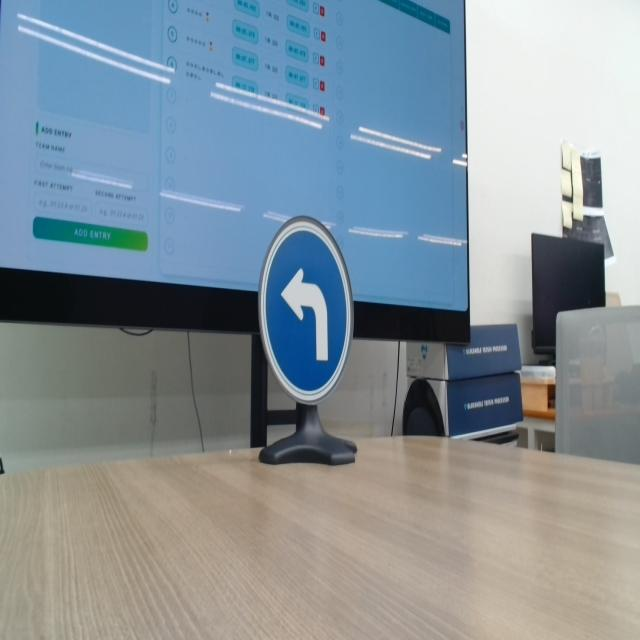left_direction: (252, 214, 359, 409)
